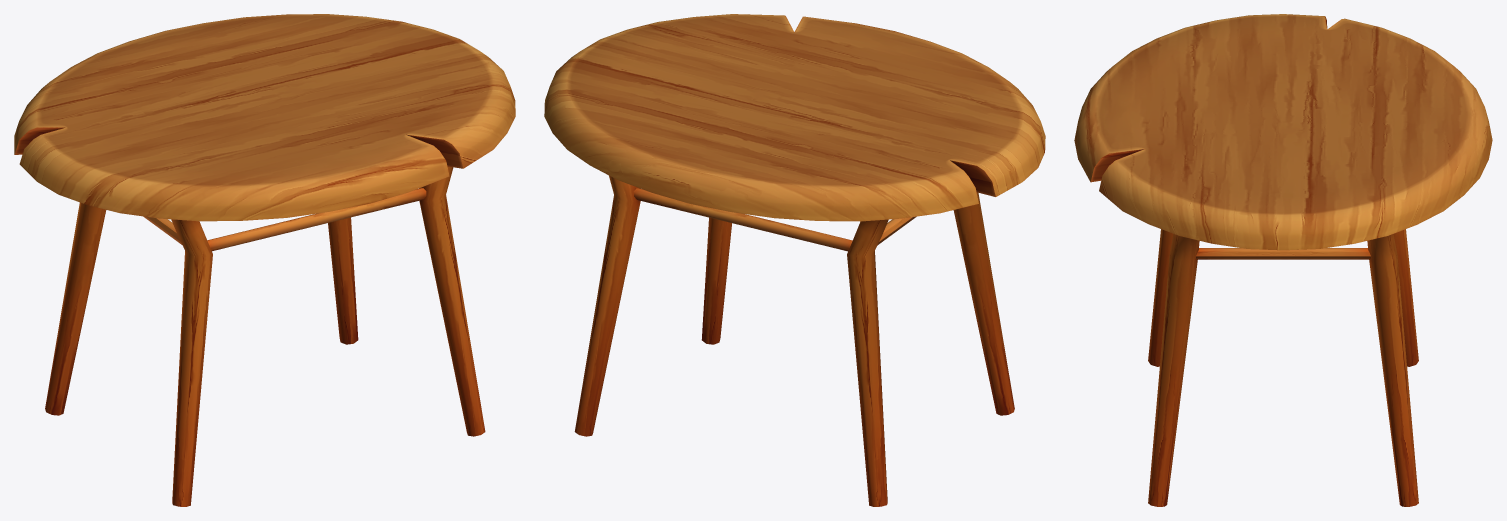
File: Table01.FBX
The picture shows the model from 3 angles, left to right: view 1: azimuth 30°, elevation 25°; view 2: azimuth 150°, elevation 25°; view 3: azimuth 270°, elevation 25°; orthographic projection.
Visible parts, largest first — view 1: Table01; view 2: Table01; view 3: Table01.
Boxes of the visible parts, <box> form: Table01: <box>14,14,515,506</box>; Table01: <box>544,14,1045,506</box>; Table01: <box>1074,14,1492,506</box>.
Size of what is drawn, in the model's own units: 1.25 by 0.8451 by 1.
